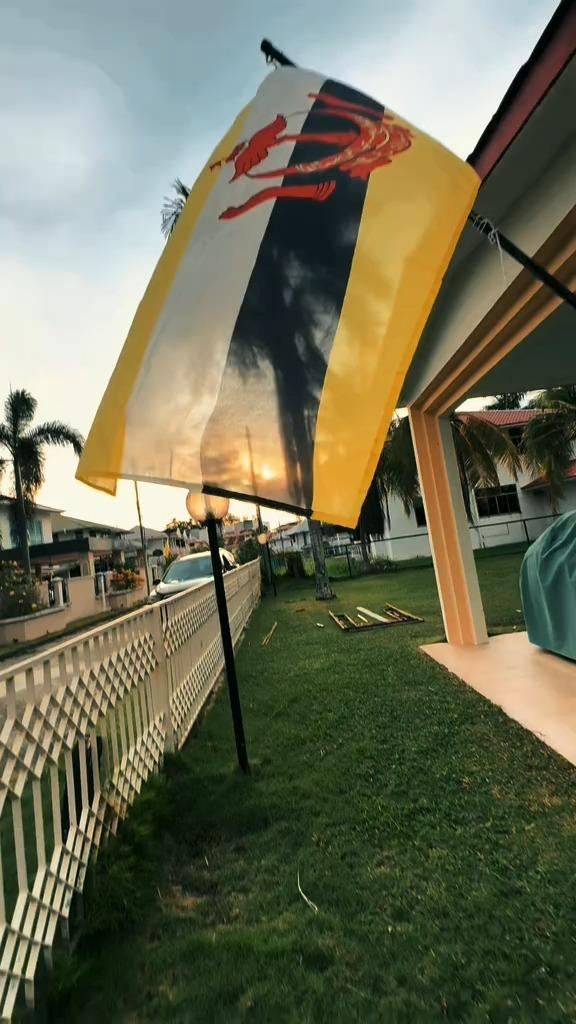Brunei: (77, 69, 477, 526)
